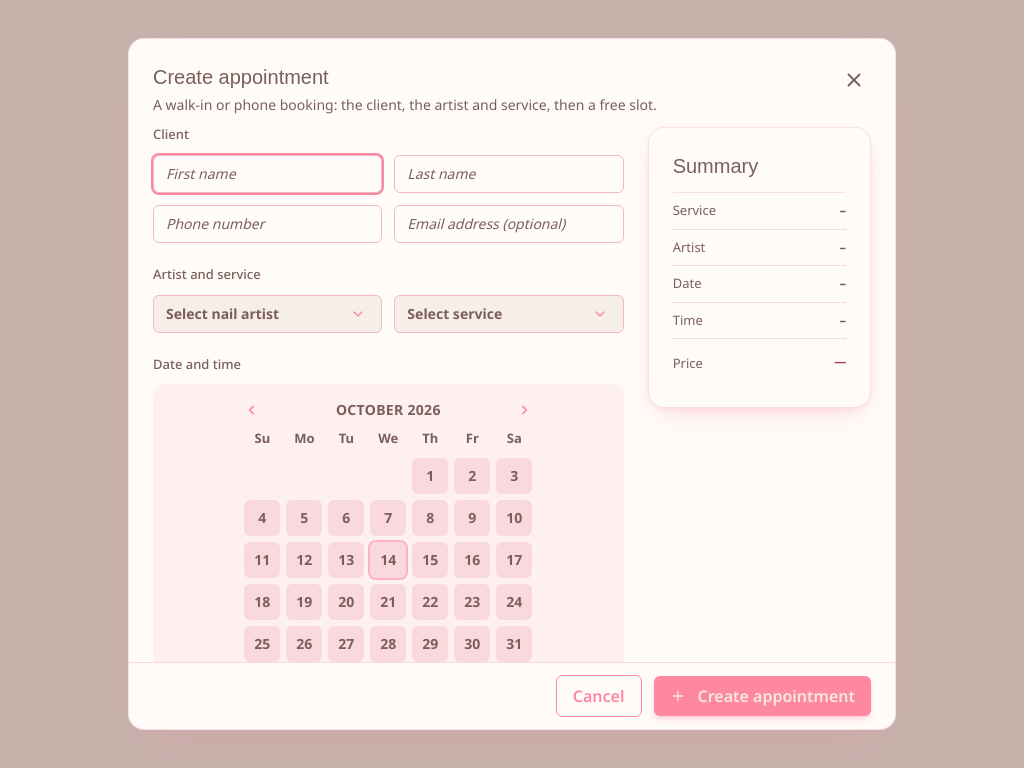
Test case: CreateAppointmentDialog: loading and loading failures › shows a message when the booked slots of a chosen date can't be loaded
The width and height of the screenshot is (1024, 768).
Expected: the button "Select service" is enabled, [394, 295, 624, 333]
Click the button "Select nail artist": [268, 314] box [153, 295, 382, 333]
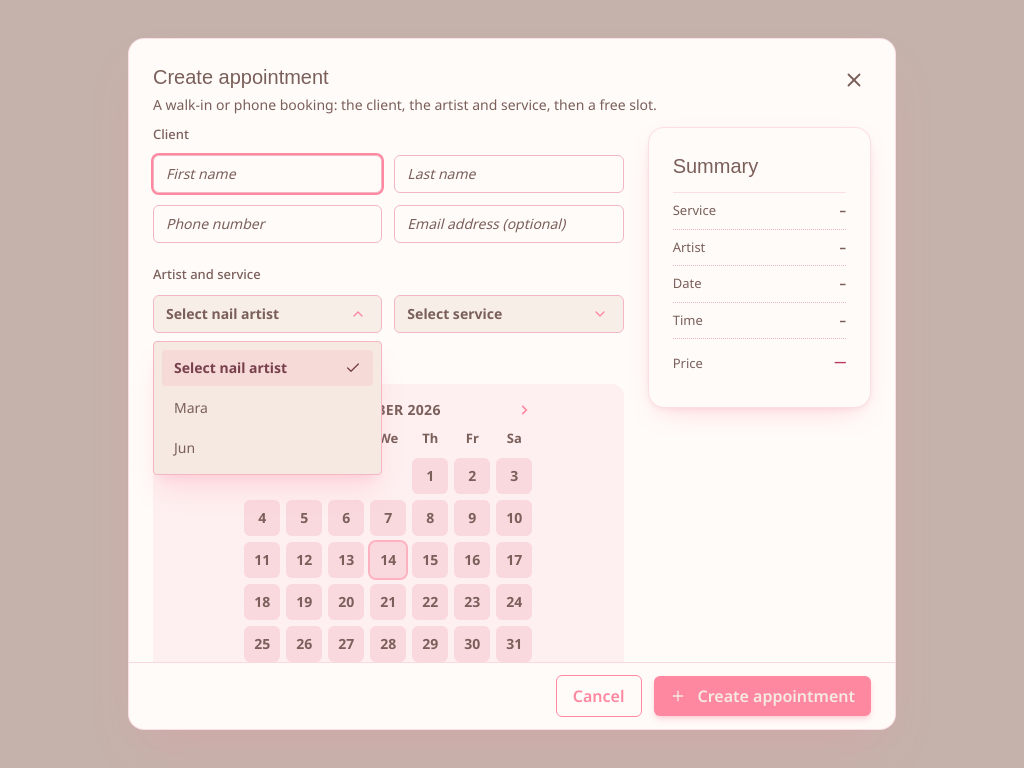
Click the option "Mara": [268, 408] box [162, 390, 373, 426]
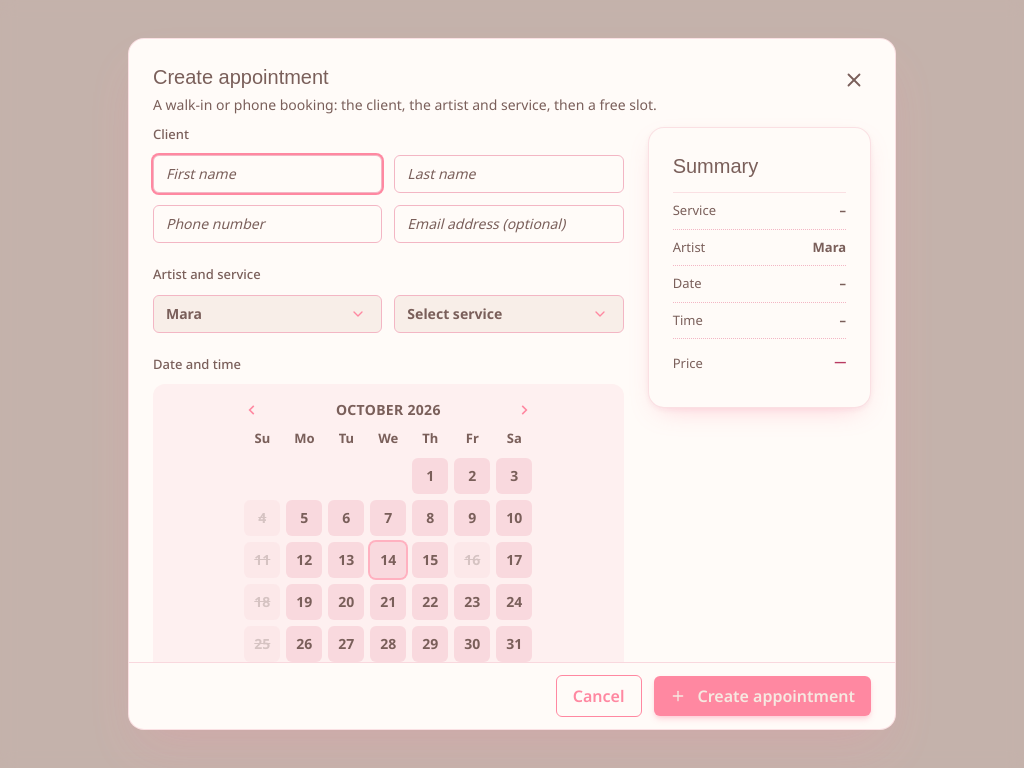
Click the button named "October 15th, 2026": [430, 560] box [412, 542, 448, 578]
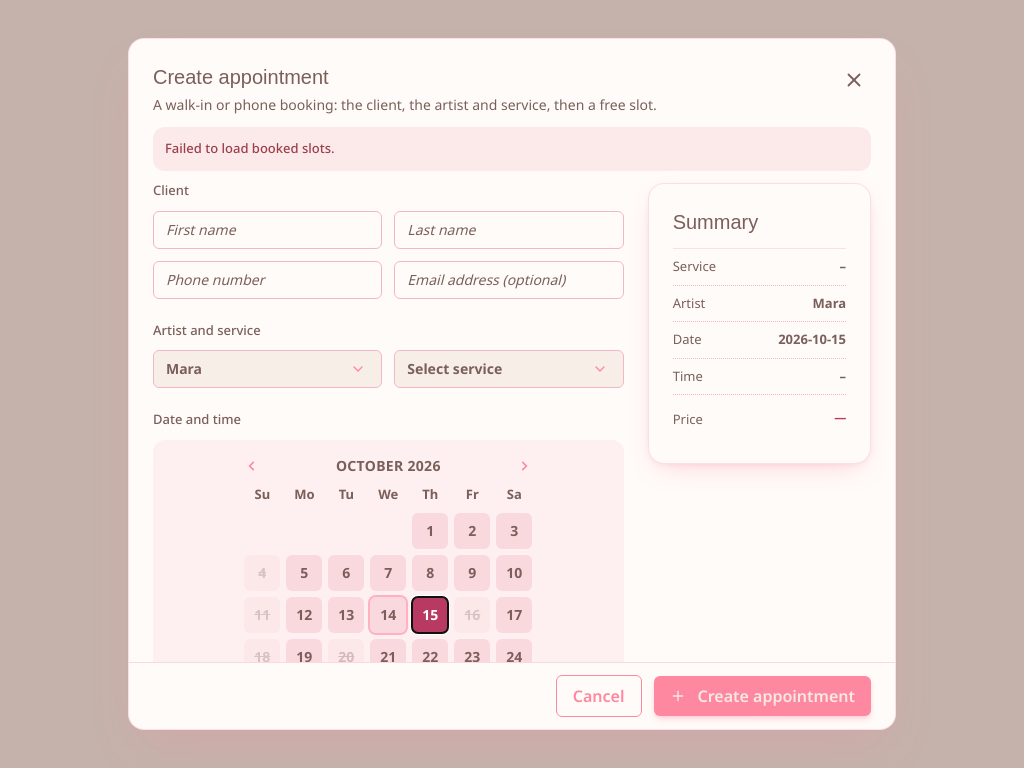
Expected: the message reads "Failed to load booked slots.", [165, 139, 335, 157]
